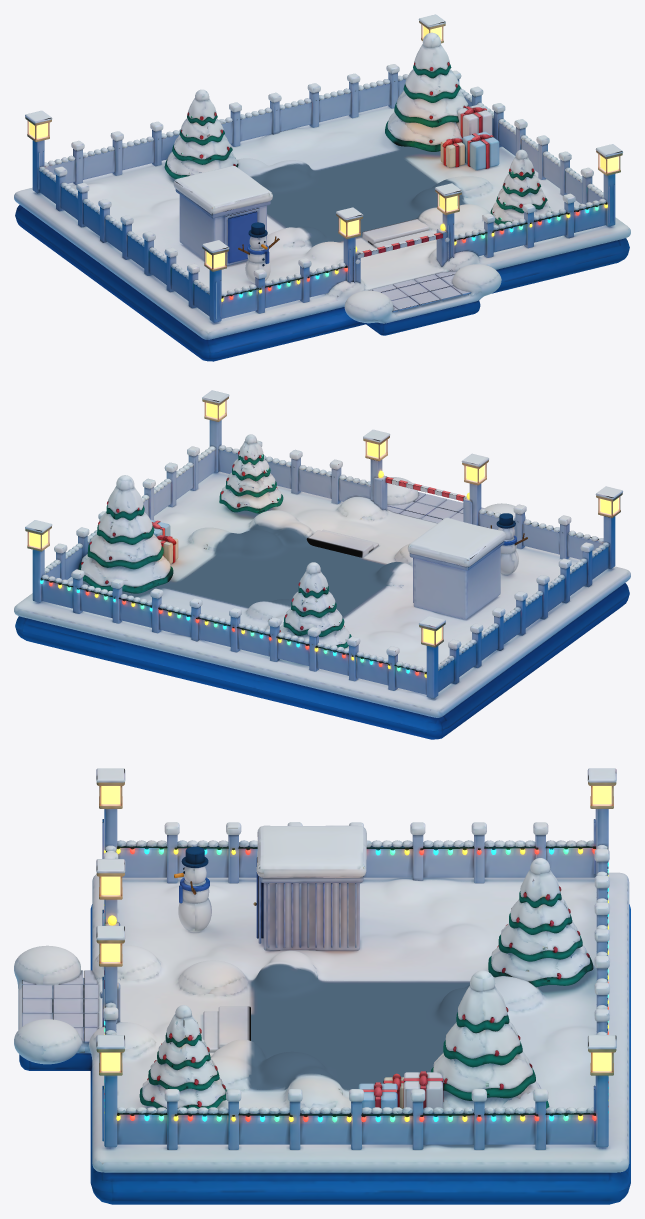
Rendered from winter-site.glb.
3 renders of one model, top to bottom at view 1: azimuth 30°, elevation 25°; view 2: azimuth 150°, elevation 25°; view 3: azimuth 270°, elevation 25°, orthographic. The views are drawn at different scales.
Parts seen in each view (by area): view 1: Baked_site, Site • Lantern • warm source; view 2: Baked_site, Site • Lantern • warm source; view 3: Baked_site, Site • Lantern • warm source.
Boxes of the visible parts, <box> form: Baked_site: <box>14,14,630,361</box>; Site • Lantern • warm source: <box>29,26,618,268</box>; Baked_site: <box>14,390,630,739</box>; Site • Lantern • warm source: <box>29,401,618,643</box>; Baked_site: <box>14,768,630,1204</box>; Site • Lantern • warm source: <box>101,786,611,1071</box>.
Size of the model in its own units: 9.6 by 3.03 by 8.56.
Materials: 6 (1 with a texture image).
